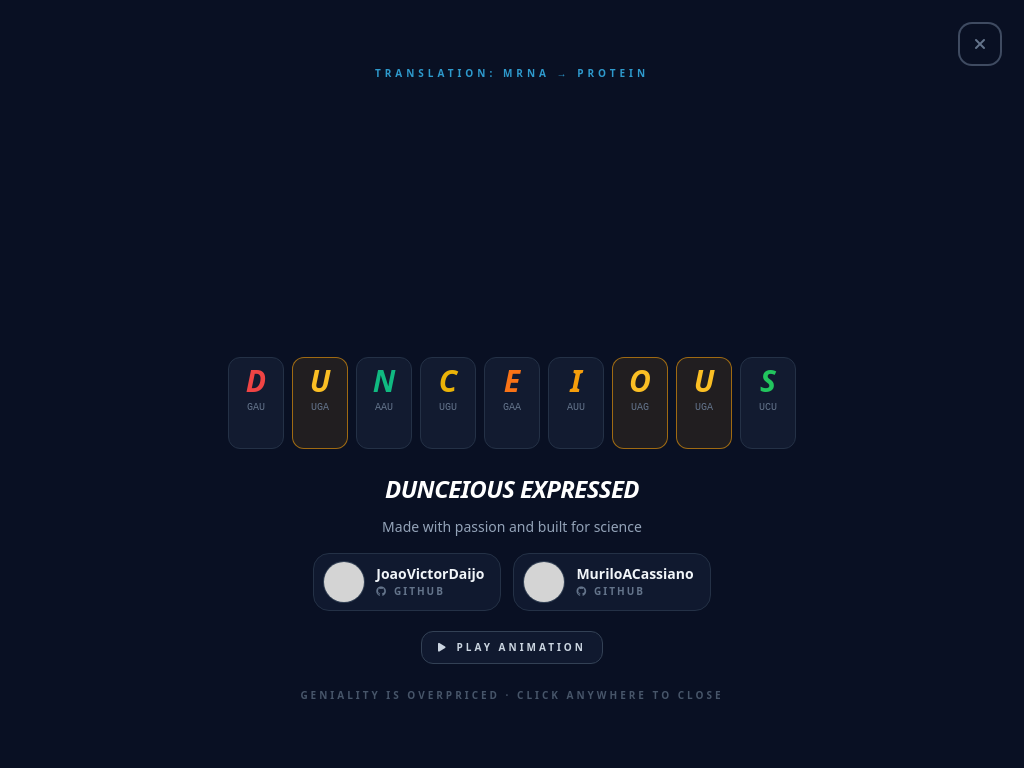
Scenario: CentralDogmaEgg › plays a replay again on request
Click the button "Play animation" at {"x": 512, "y": 647}, box [421,630,603,664]
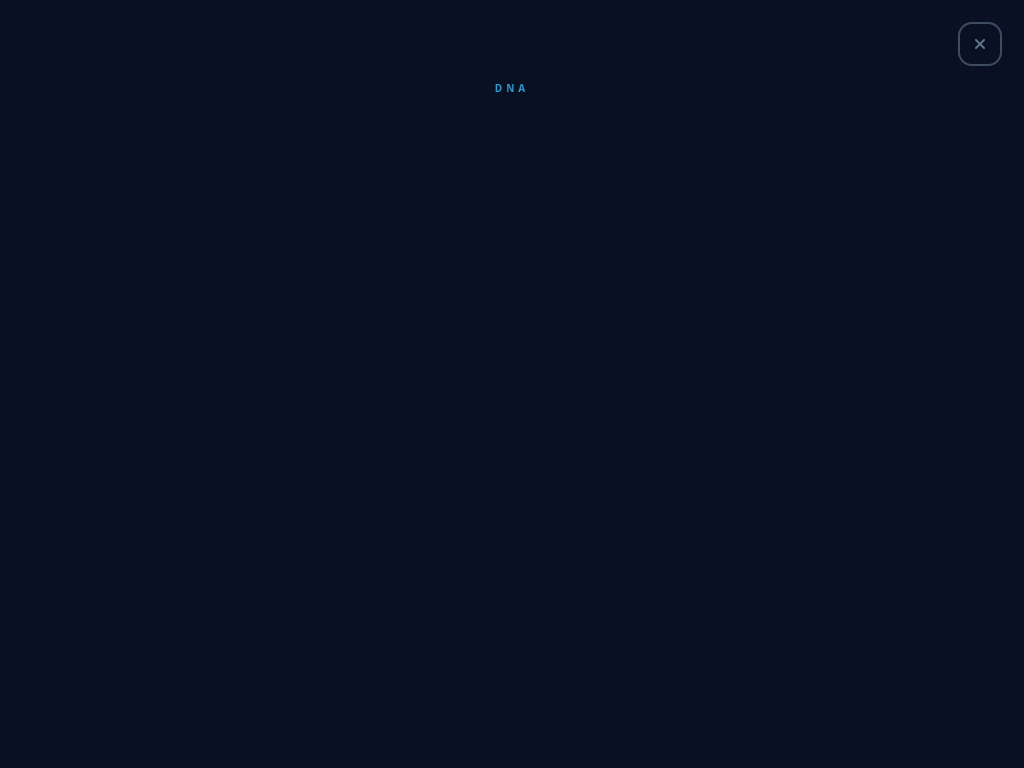
Check: the heading "DUNCEIOUS expressed" is gone
